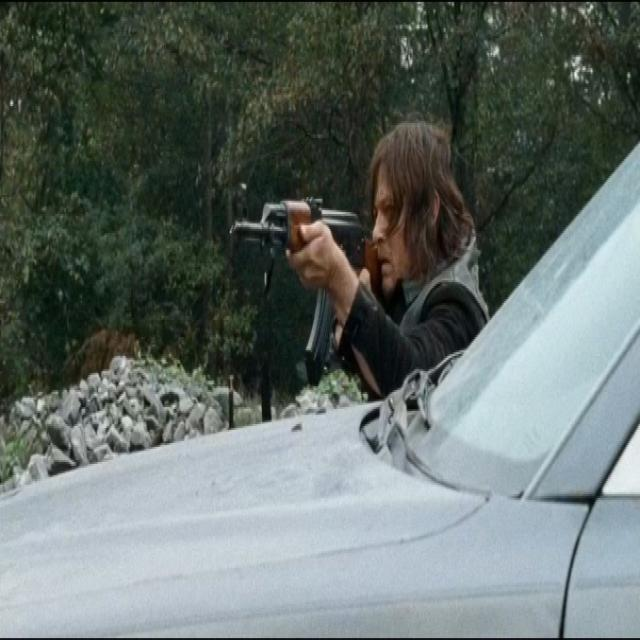rifle: (232, 192, 381, 388)
